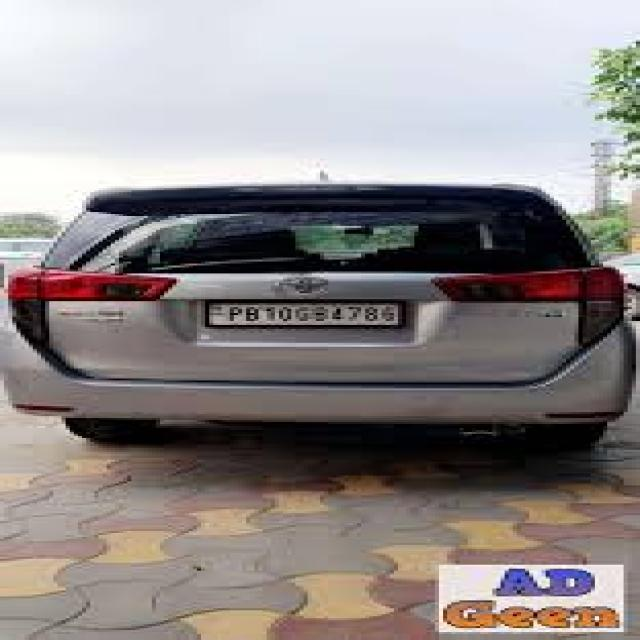light_vehicle: (0, 182, 638, 449)
